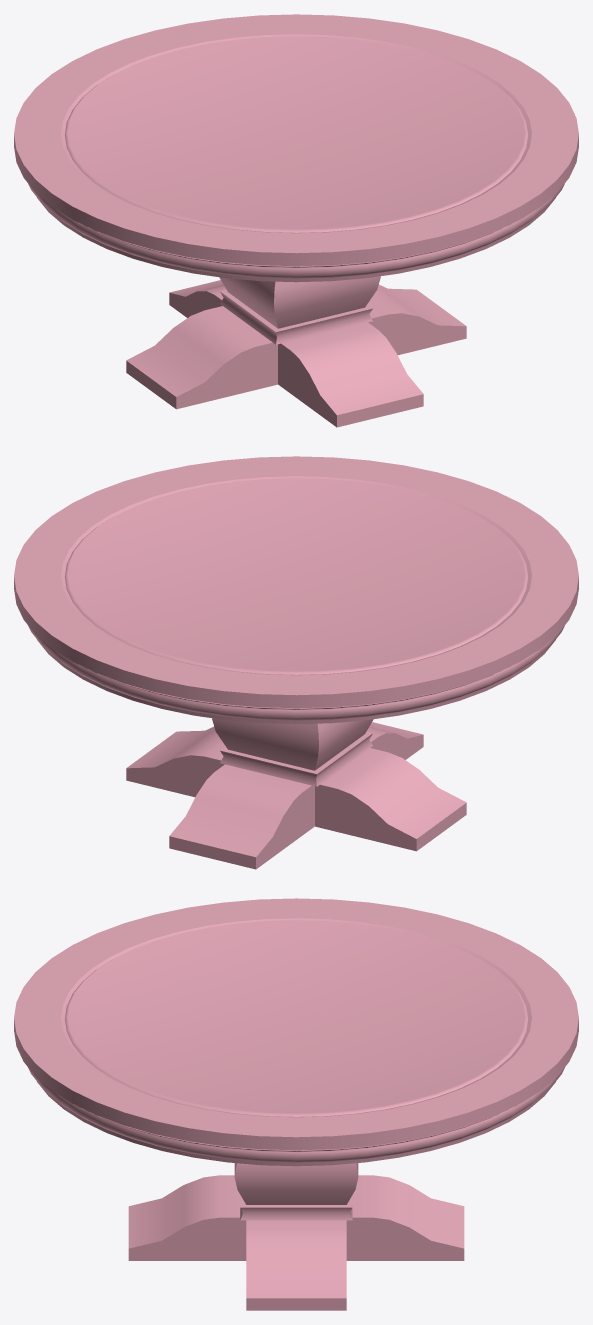
The model's file is PokerTable.fbx.
3 views of the same model, one above another, from view 1: azimuth 30°, elevation 25°; view 2: azimuth 150°, elevation 25°; view 3: azimuth 270°, elevation 25° (orthographic).
Parts seen in each view (by area): view 1: PokerTable; view 2: PokerTable; view 3: PokerTable.
Part boxes in pixels (x1,y1,x2,y2): PokerTable: (14, 14, 578, 427); PokerTable: (14, 456, 578, 869); PokerTable: (14, 898, 578, 1310).
Size of the model in its own units: 173 by 75.45 by 173.
